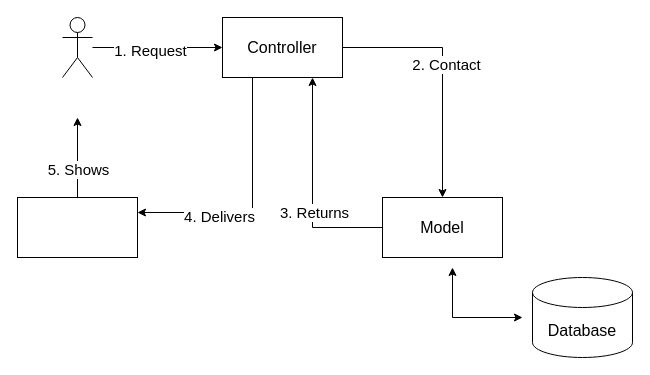
Image size: 650x375. Some labels were removed from this diagram. Each missing label, with the box of its shape:
User: (62, 16, 92, 78)
View: (16, 196, 138, 258)
